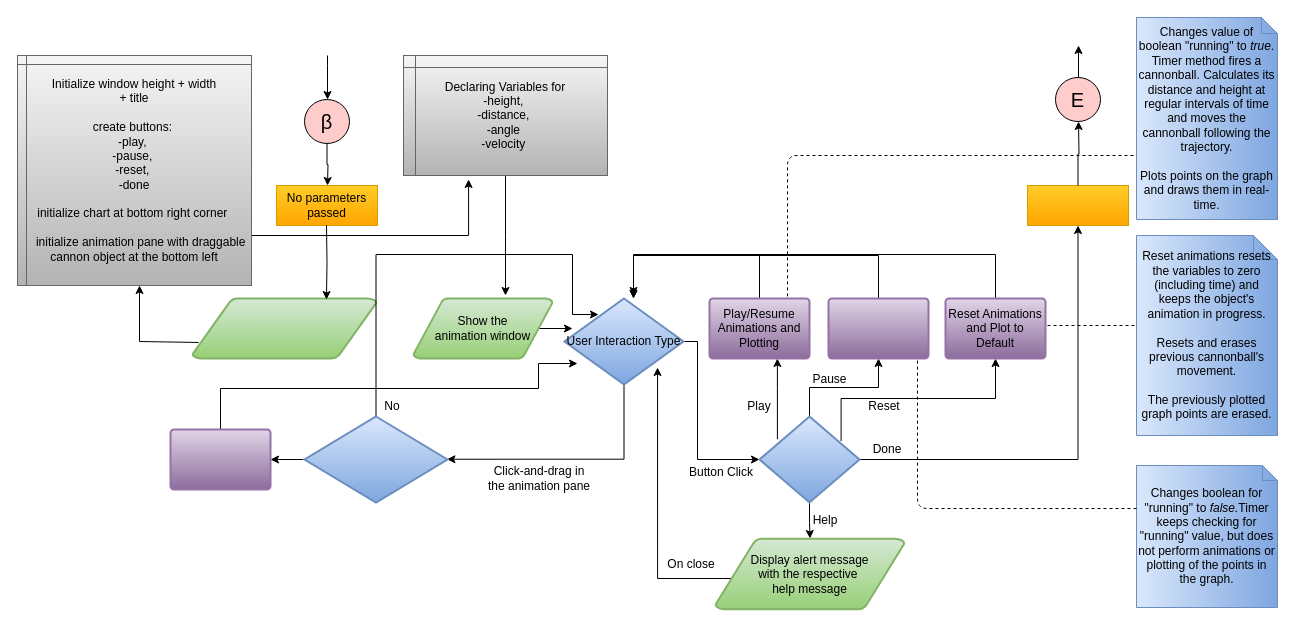
Image size: 1295x628. Some labels were removed from this diagram. The shapes that lost their labels are listed below. From the top down, each one's centre as x and y in pixels, then its label:
At pixel 1077 205: "No parameters returned".
At pixel 284 328: "Hide the Main Menu".
At pixel 878 328: "Pause Animations and Plotting".
At pixel 220 459: "Modify the object's velocity and angle to follow the drag".
At pixel 375 459: "Was the click on the draggable object?".
At pixel 809 459: "What is the button?".
